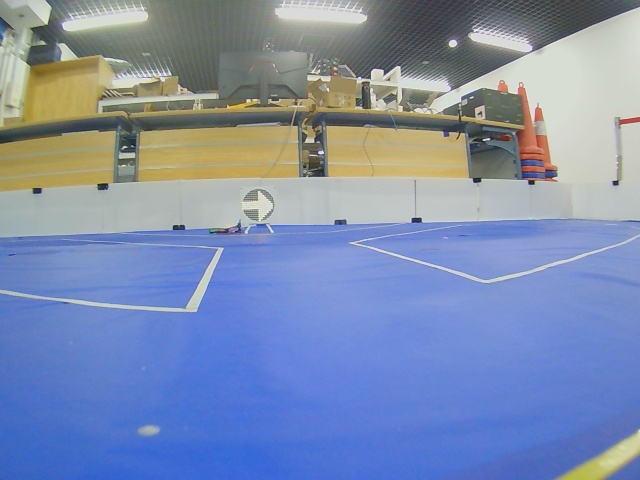right_yellow: (242, 189, 275, 222)
